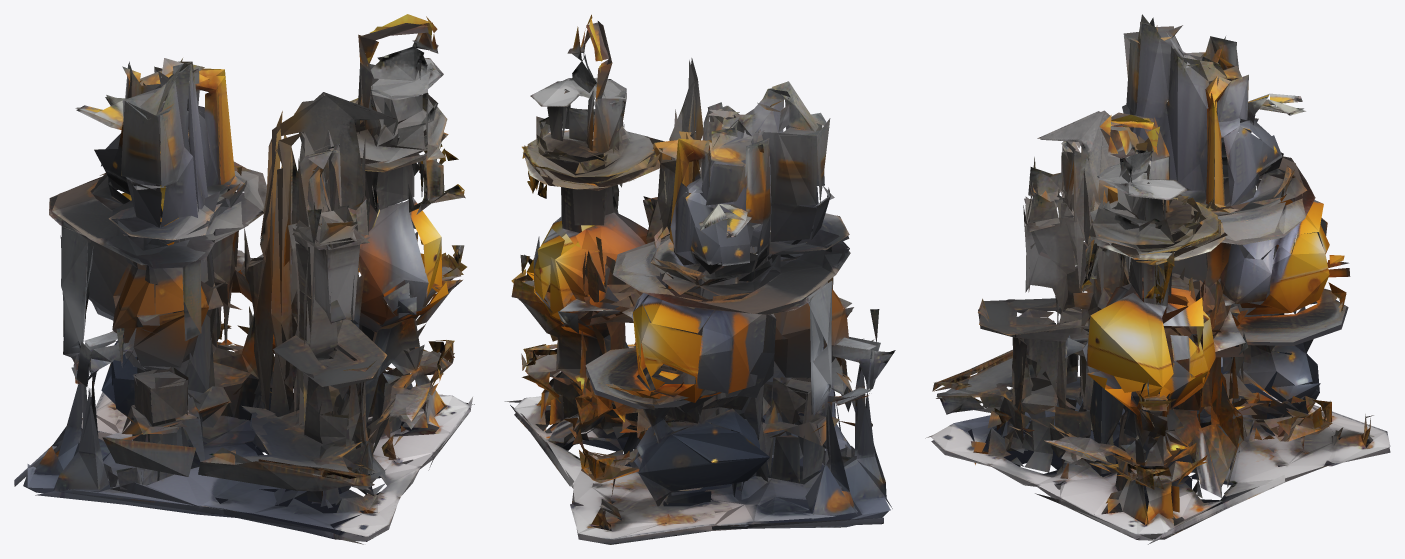
The model's file is food_lab_t1.fbx.
3 renders of one model, left to right at view 1: azimuth 30°, elevation 25°; view 2: azimuth 150°, elevation 25°; view 3: azimuth 270°, elevation 25°, orthographic. The views are drawn at different scales.
Visible parts, largest first — view 1: food_lab_t1; view 2: food_lab_t1; view 3: food_lab_t1.
Boxes of the visible parts, x1,y1,x2,y2 form: food_lab_t1: [14, 14, 474, 544]; food_lab_t1: [504, 14, 895, 544]; food_lab_t1: [925, 14, 1390, 544].
Bounding box in the file's own units: 2.73 × 2.58 × 2.68.
Materials: 1 (1 with a texture image).
